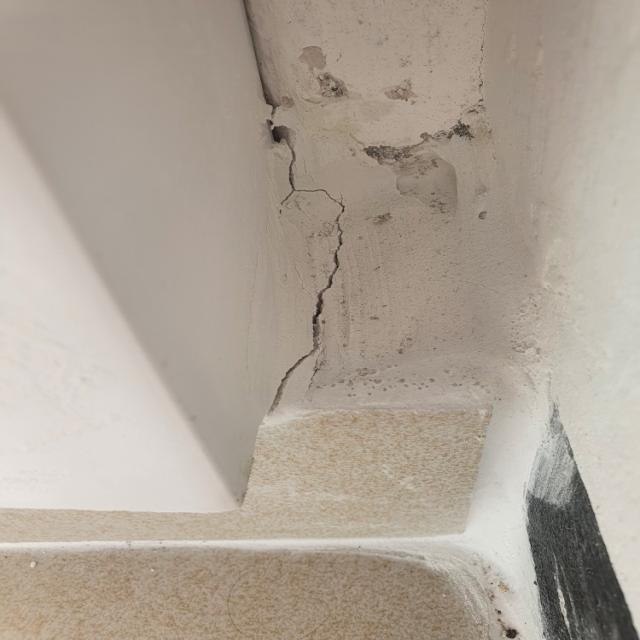Crack: (270, 134, 344, 412)
